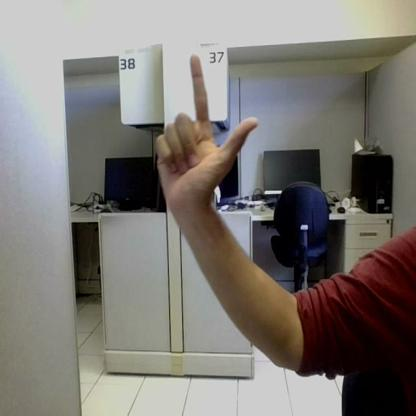L: (157, 55, 258, 204)
